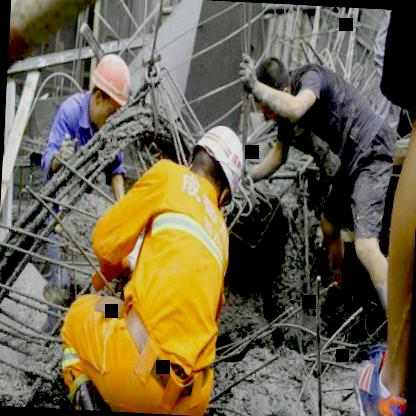head: (254, 47, 296, 124)
helmet: (180, 115, 254, 207), (82, 47, 134, 127)
